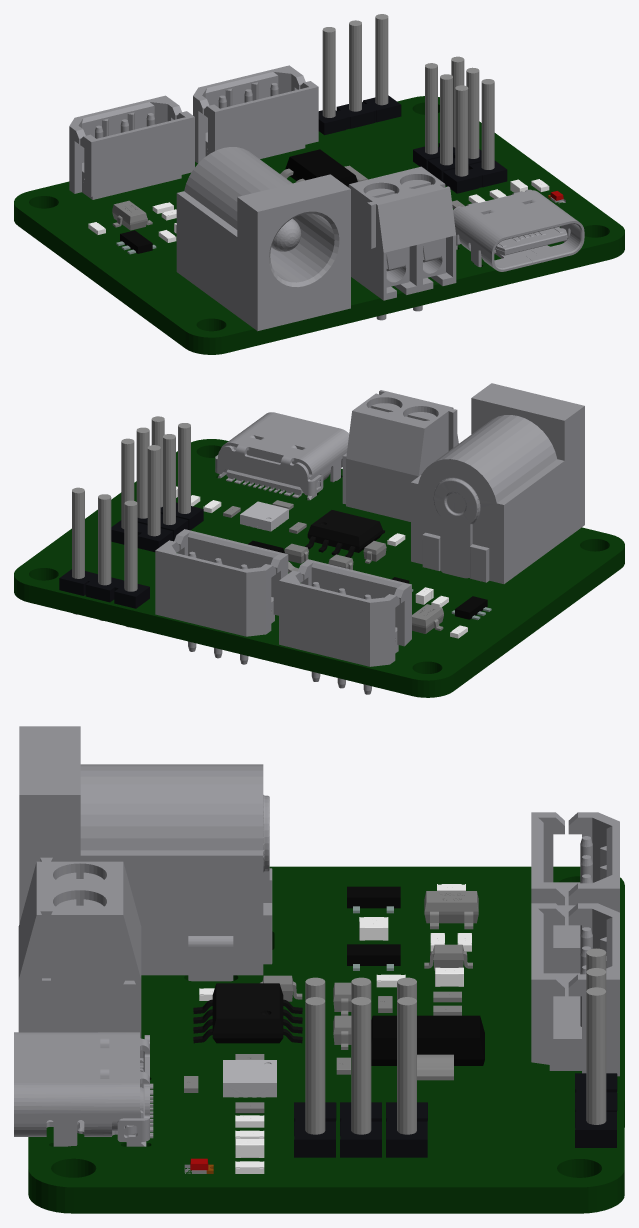
The model's file is waveshare-bus-servo-adapter-a.glb.
3 views of the same model, one above another, from view 1: azimuth 30°, elevation 25°; view 2: azimuth 150°, elevation 25°; view 3: azimuth 270°, elevation 25° (orthographic). The views are drawn at different scales.
Visible parts, largest first — view 1: waveshare-bus-servo-adapter-a; view 2: waveshare-bus-servo-adapter-a; view 3: waveshare-bus-servo-adapter-a.
Part boxes in pixels (x1,y1,x2,y2): waveshare-bus-servo-adapter-a: [14, 14, 624, 354]; waveshare-bus-servo-adapter-a: [14, 383, 624, 697]; waveshare-bus-servo-adapter-a: [14, 726, 624, 1213].
Size of the model in its own units: 42.02 by 14.6 by 33.82.
